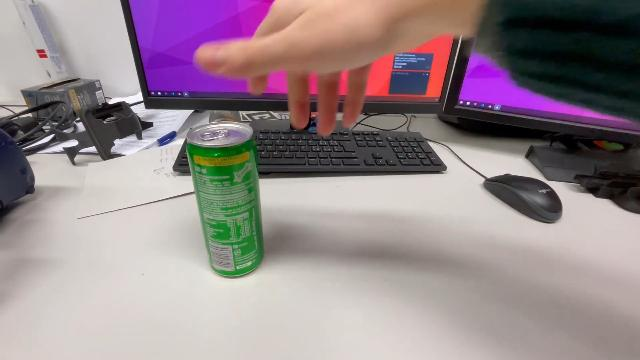Sprite: (183, 120, 267, 280)
